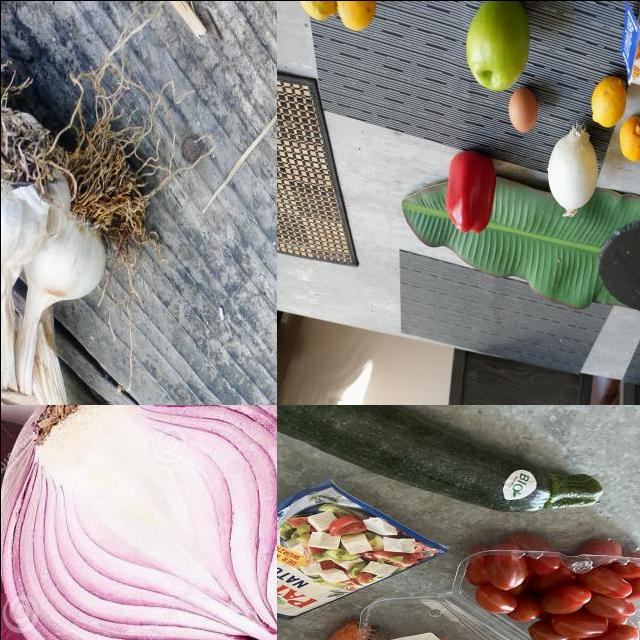bell_pepper: (441, 143, 501, 237)
egg: (507, 88, 539, 136)
garlic: (18, 180, 109, 313), (1, 102, 65, 269)
onion: (1, 405, 277, 640), (1, 414, 146, 640), (544, 125, 601, 222)
tomato: (530, 571, 626, 640)
zucchini: (277, 405, 607, 516)
